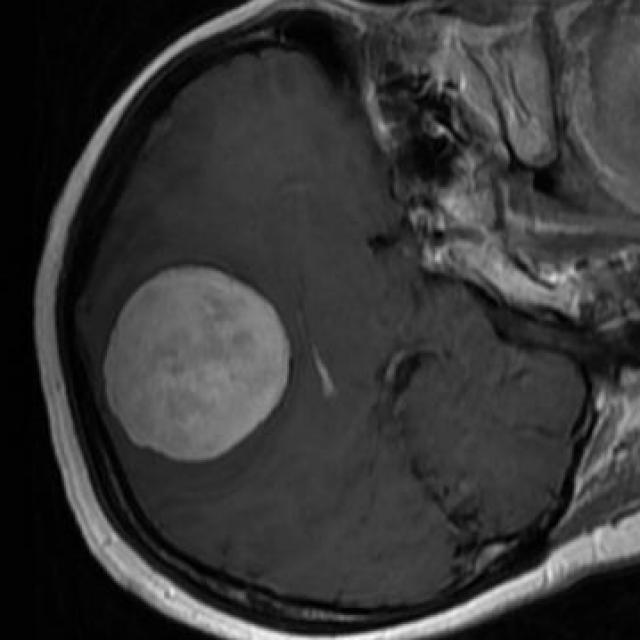meningioma: (103, 266, 291, 464)
